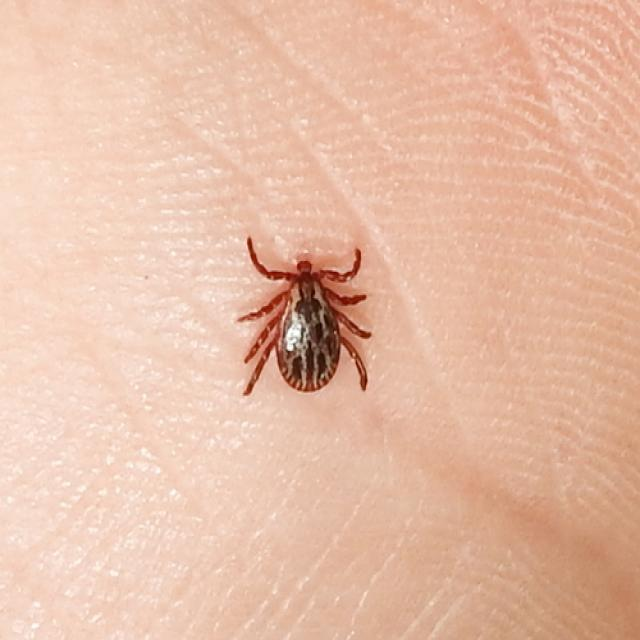Dermacentor Reticulatus-M: (236, 236, 371, 395)
